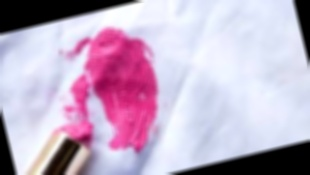lipstick: (52, 22, 180, 162)
